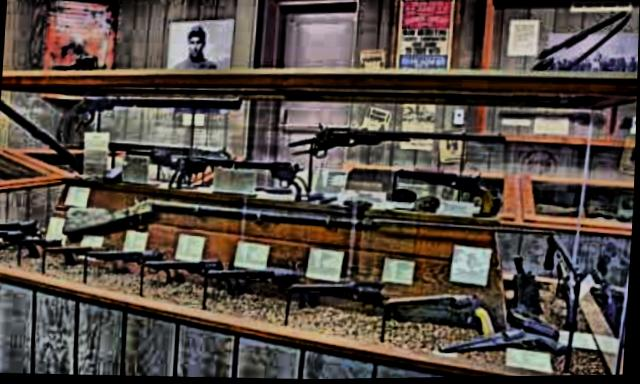pistol: (372, 274, 500, 353), (210, 249, 307, 333), (283, 265, 395, 337), (144, 235, 243, 311), (219, 139, 322, 207), (83, 238, 182, 296), (0, 205, 38, 264)
